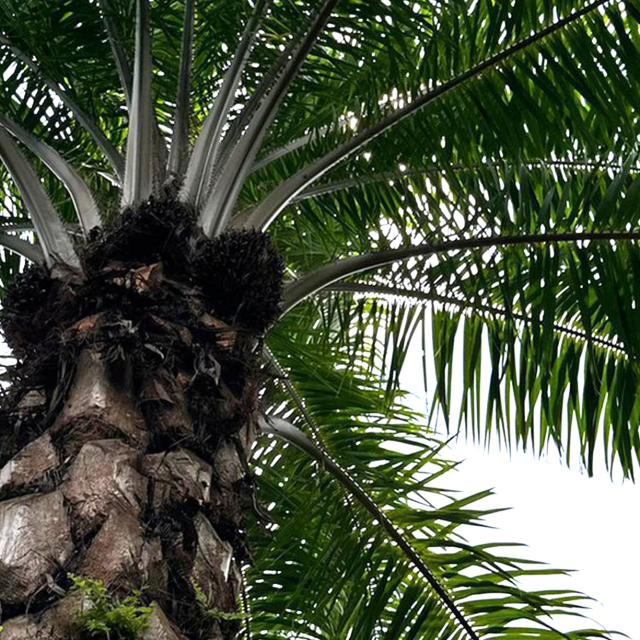almost: (185, 222, 293, 331), (109, 194, 200, 289), (2, 264, 85, 352)
